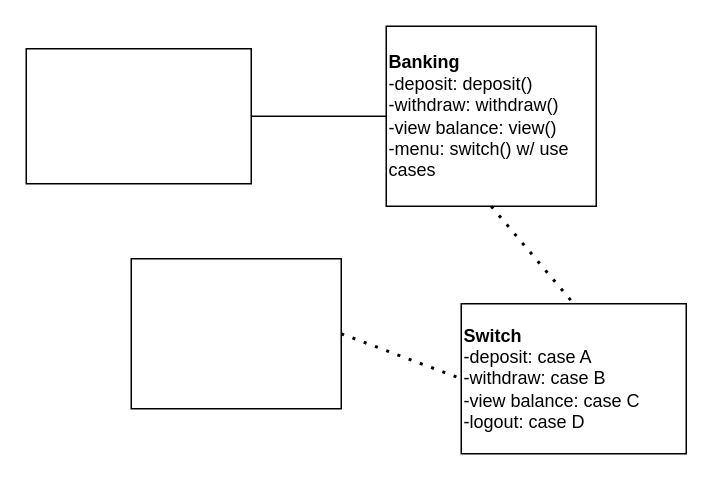
The diagram is 713 pixels wide and 480 high, and some of its shapes have lost their labels. The shapes that lost their labels are listed below. From the top down, each one's centre as x and y in pixels, then its label:
At point 138,115: "Users -name: String -customerId: int -password: String".
At point 235,333: "Calc -amount: int -balance: int".
